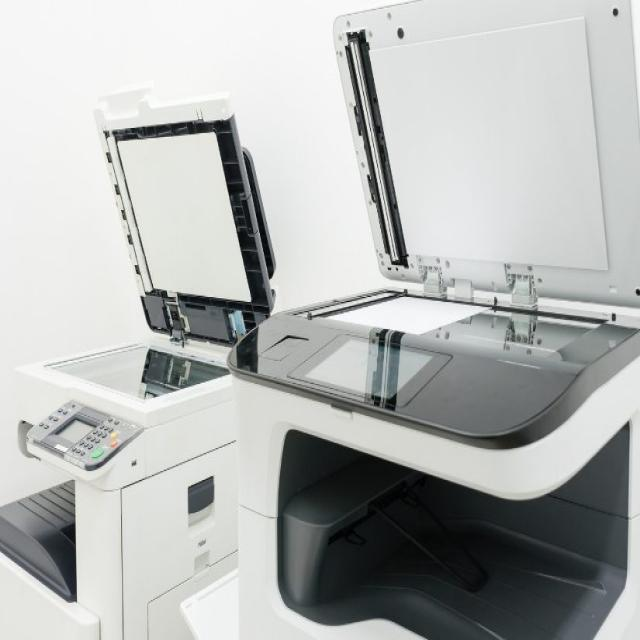printer: (0, 84, 276, 638)
